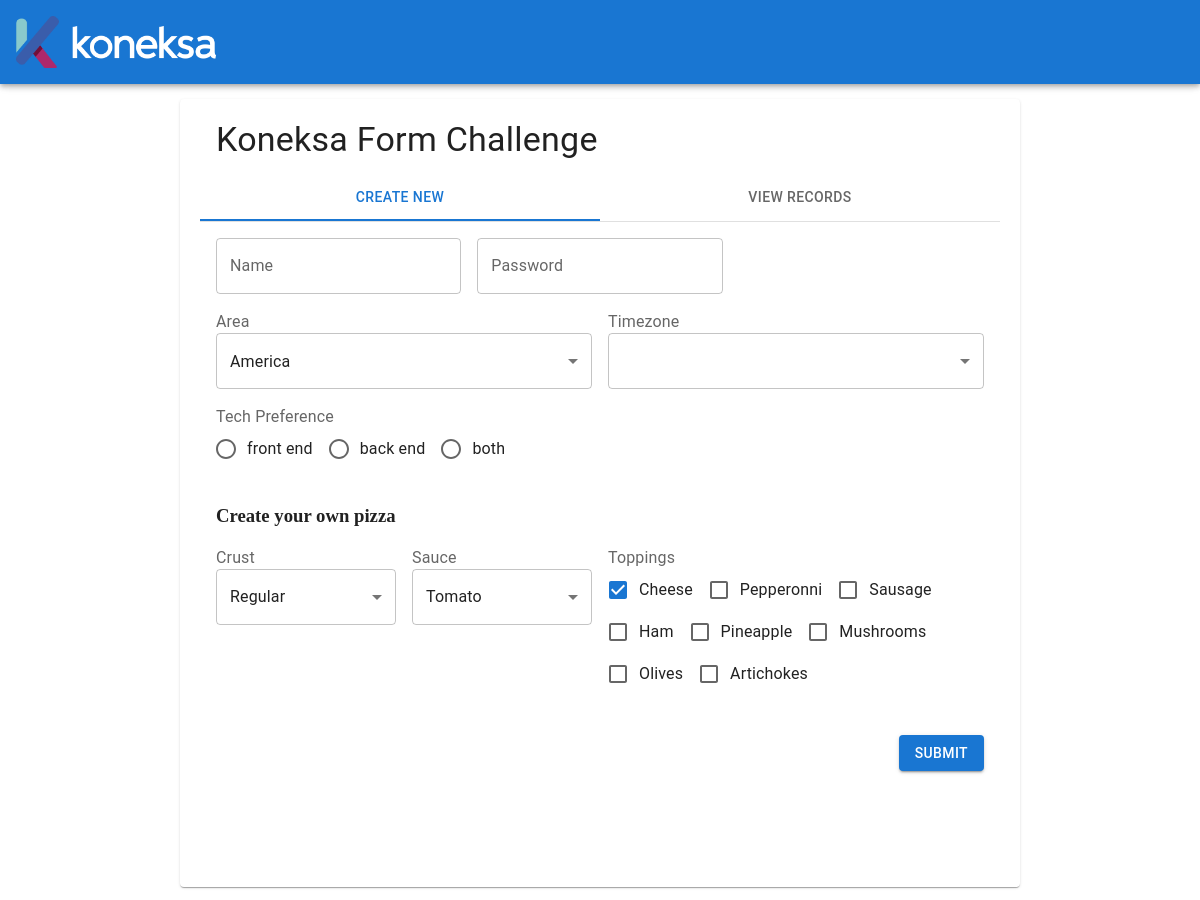
Test: View Records Failure › should display loading spinner then error message
Step 1. Click the tab with test id "viewRecordsTab" → (800, 197), box [600,173,1000,221]
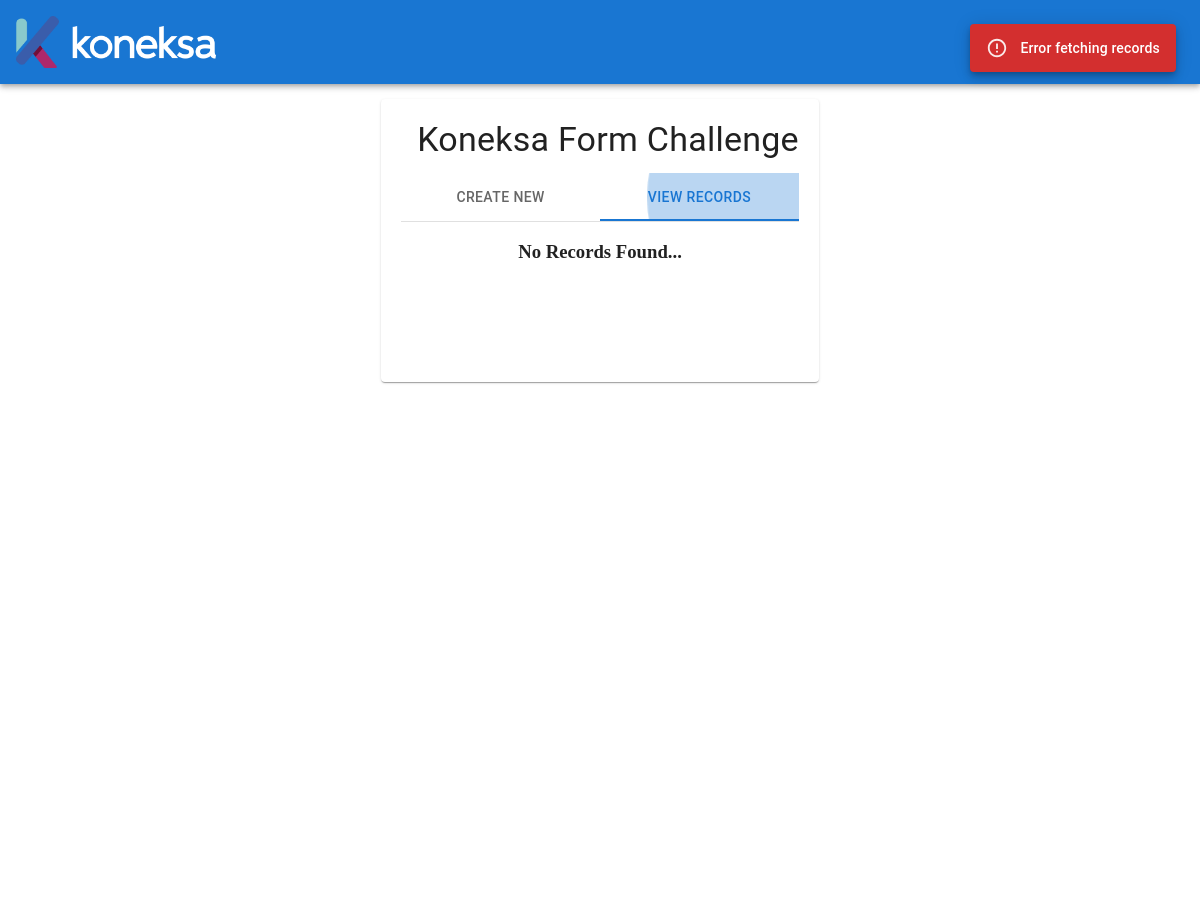
Expected: the text "Error fetching records" is shown, [1020,40,1160,56]
Expected: the heading "No Records Found..." is shown, [518,241,682,262]
